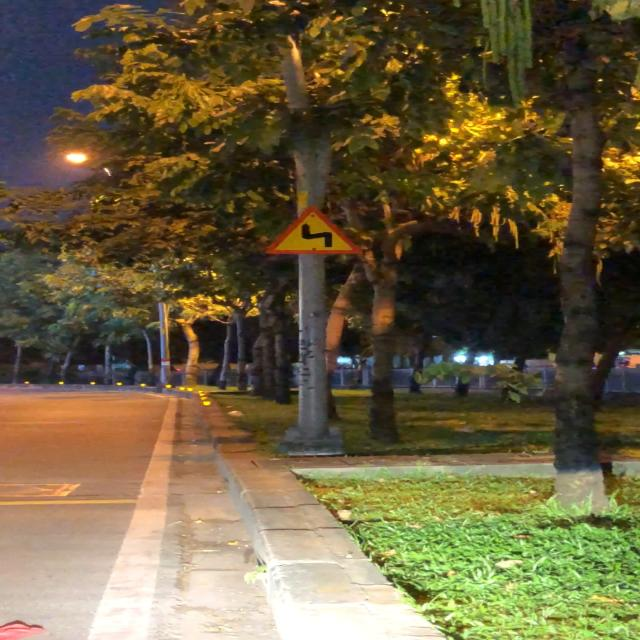Bien bao nhieu cho ngoat nguy hiem lien tiep: (262, 208, 368, 258)
